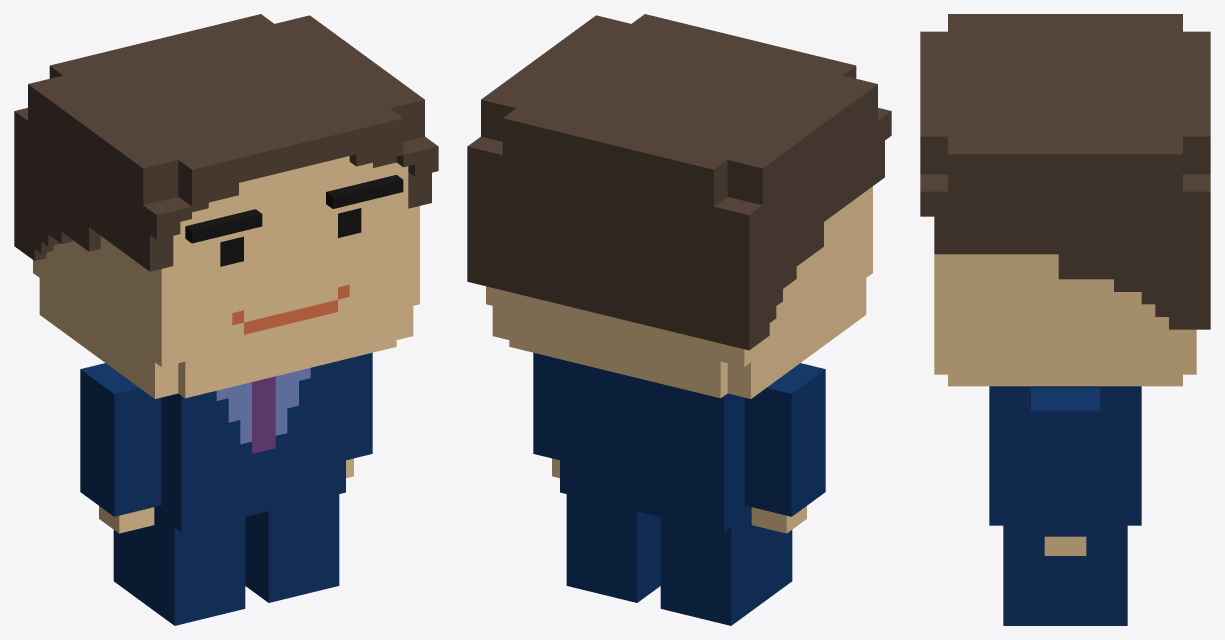
File: Michael.obj
The picture shows the model from 3 angles, left to right: view 1: azimuth 30°, elevation 25°; view 2: azimuth 150°, elevation 25°; view 3: azimuth 270°, elevation 25°; orthographic projection.
Size of the model in its own units: 2.4 by 4 by 2.1.
Materials: 1 (1 with a texture image).
